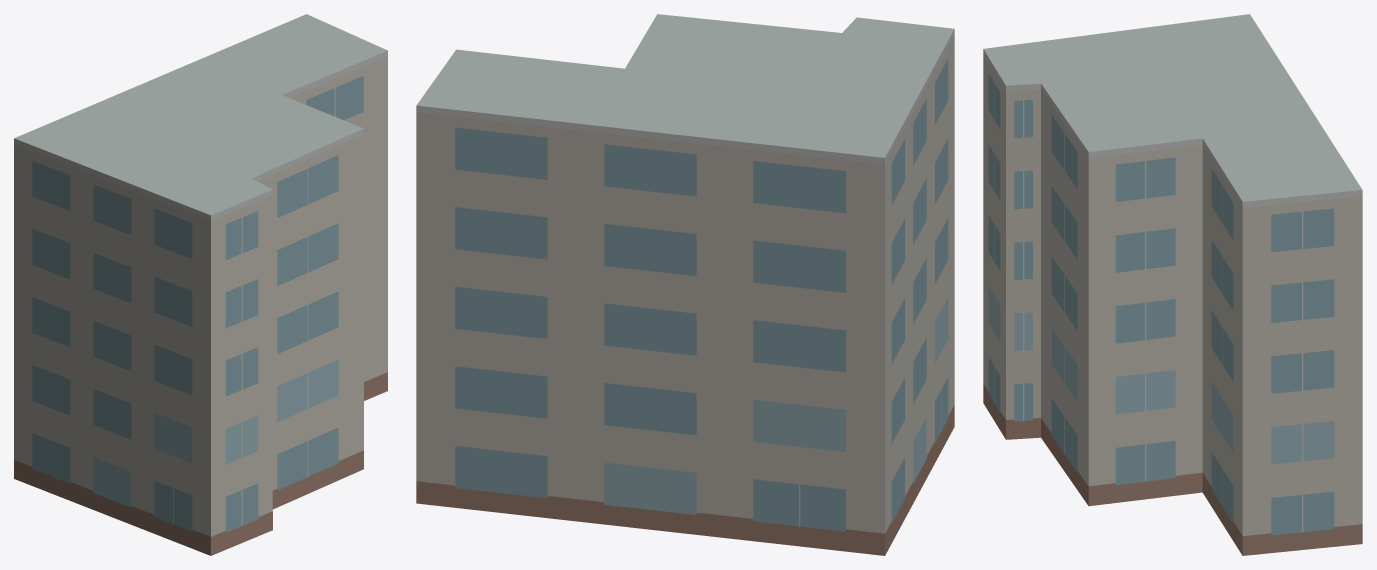
The model's file is survey-upis-33040516.glb.
The picture shows the model from 3 angles, left to right: view 1: azimuth 30°, elevation 25°; view 2: azimuth 150°, elevation 25°; view 3: azimuth 270°, elevation 25°; orthographic projection. The views are drawn at different scales.
Visible parts, largest first — view 1: survey-upis-33040516.tmp; view 2: survey-upis-33040516.tmp; view 3: survey-upis-33040516.tmp.
Part boxes in pixels (bbox=[...]): survey-upis-33040516.tmp: bbox=[14, 14, 387, 555]; survey-upis-33040516.tmp: bbox=[416, 14, 954, 555]; survey-upis-33040516.tmp: bbox=[983, 14, 1362, 555].
Bounding box in the file's own units: 15.94 × 14 × 13.61.
